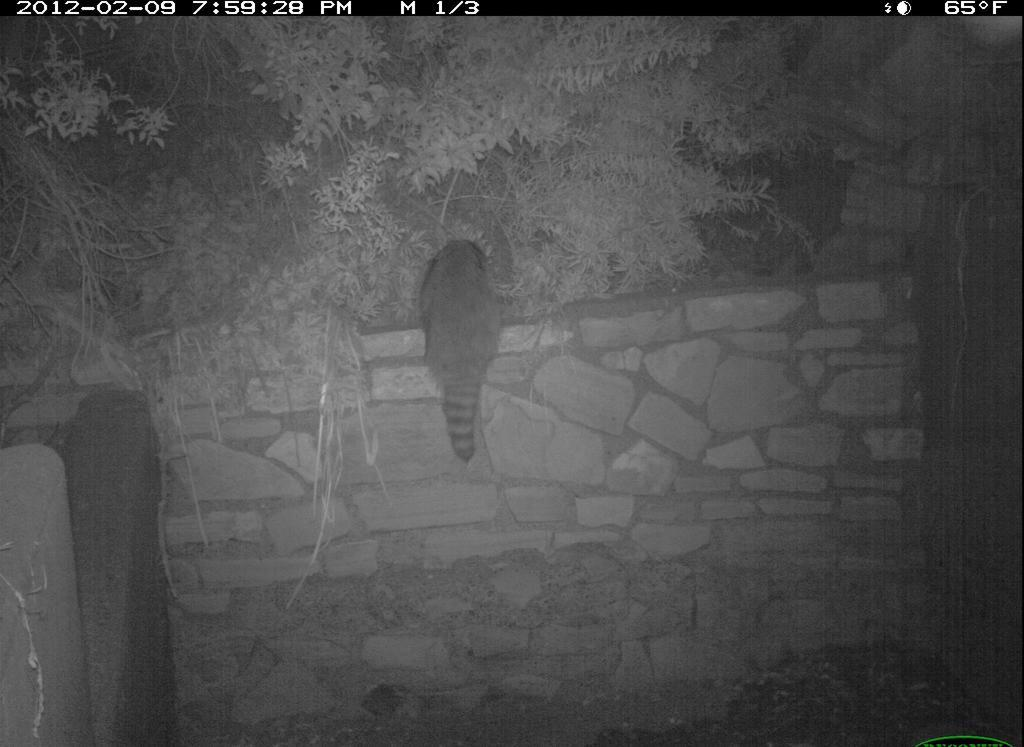raccoon: (402, 227, 518, 469)
